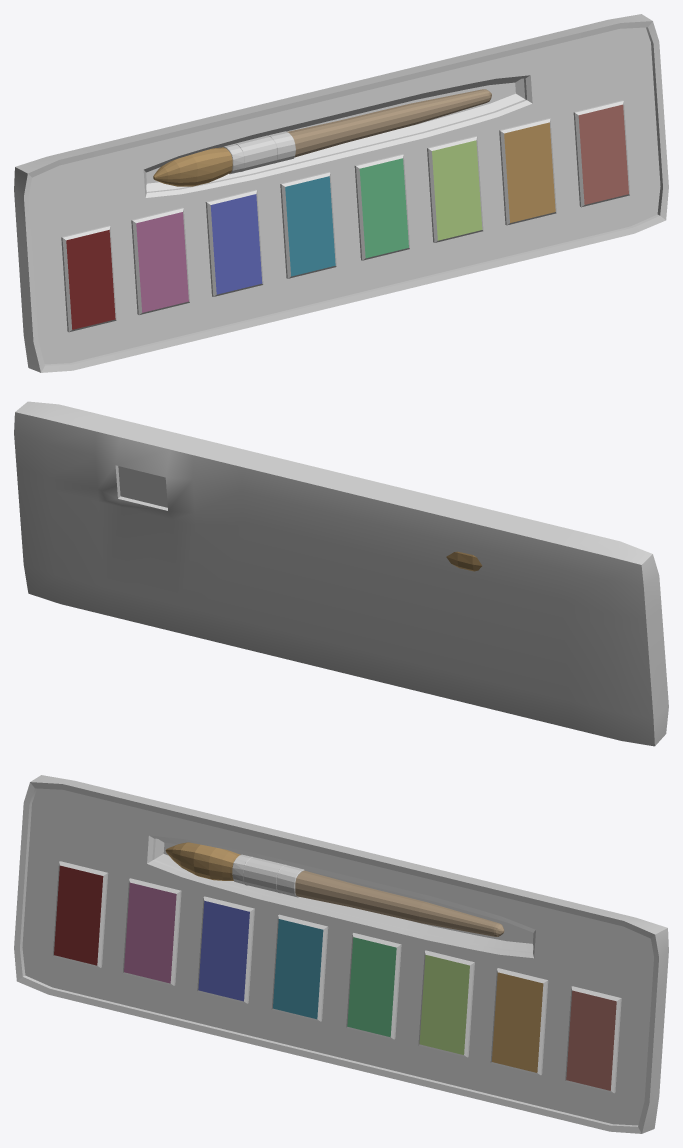
Rendered from paintset.fbx.
3 renders of one model, top to bottom at view 1: azimuth 30°, elevation 25°; view 2: azimuth 150°, elevation 25°; view 3: azimuth 330°, elevation 25°, orthographic.
Visible parts, largest first — view 1: Multiverse_Academy_platform_models:pCube2, Multiverse_Academy_platform_models:paint_brush_model; view 2: Multiverse_Academy_platform_models:pCube2; view 3: Multiverse_Academy_platform_models:pCube2, Multiverse_Academy_platform_models:paint_brush_model.
Part boxes in pixels (x1,y1,x2,y2): Multiverse_Academy_platform_models:pCube2: (14,14,668,372); Multiverse_Academy_platform_models:paint_brush_model: (153,89,491,186); Multiverse_Academy_platform_models:pCube2: (14,401,668,746); Multiverse_Academy_platform_models:pCube2: (14,775,668,1133); Multiverse_Academy_platform_models:paint_brush_model: (165,842,504,936).
Size of the model in its own units: 56.47 by 17.02 by 4.75.
